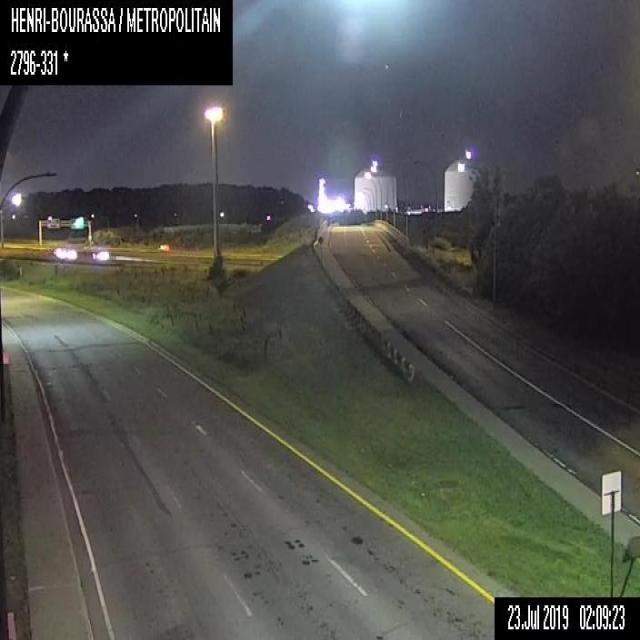vehicle: (157, 243, 168, 251)
